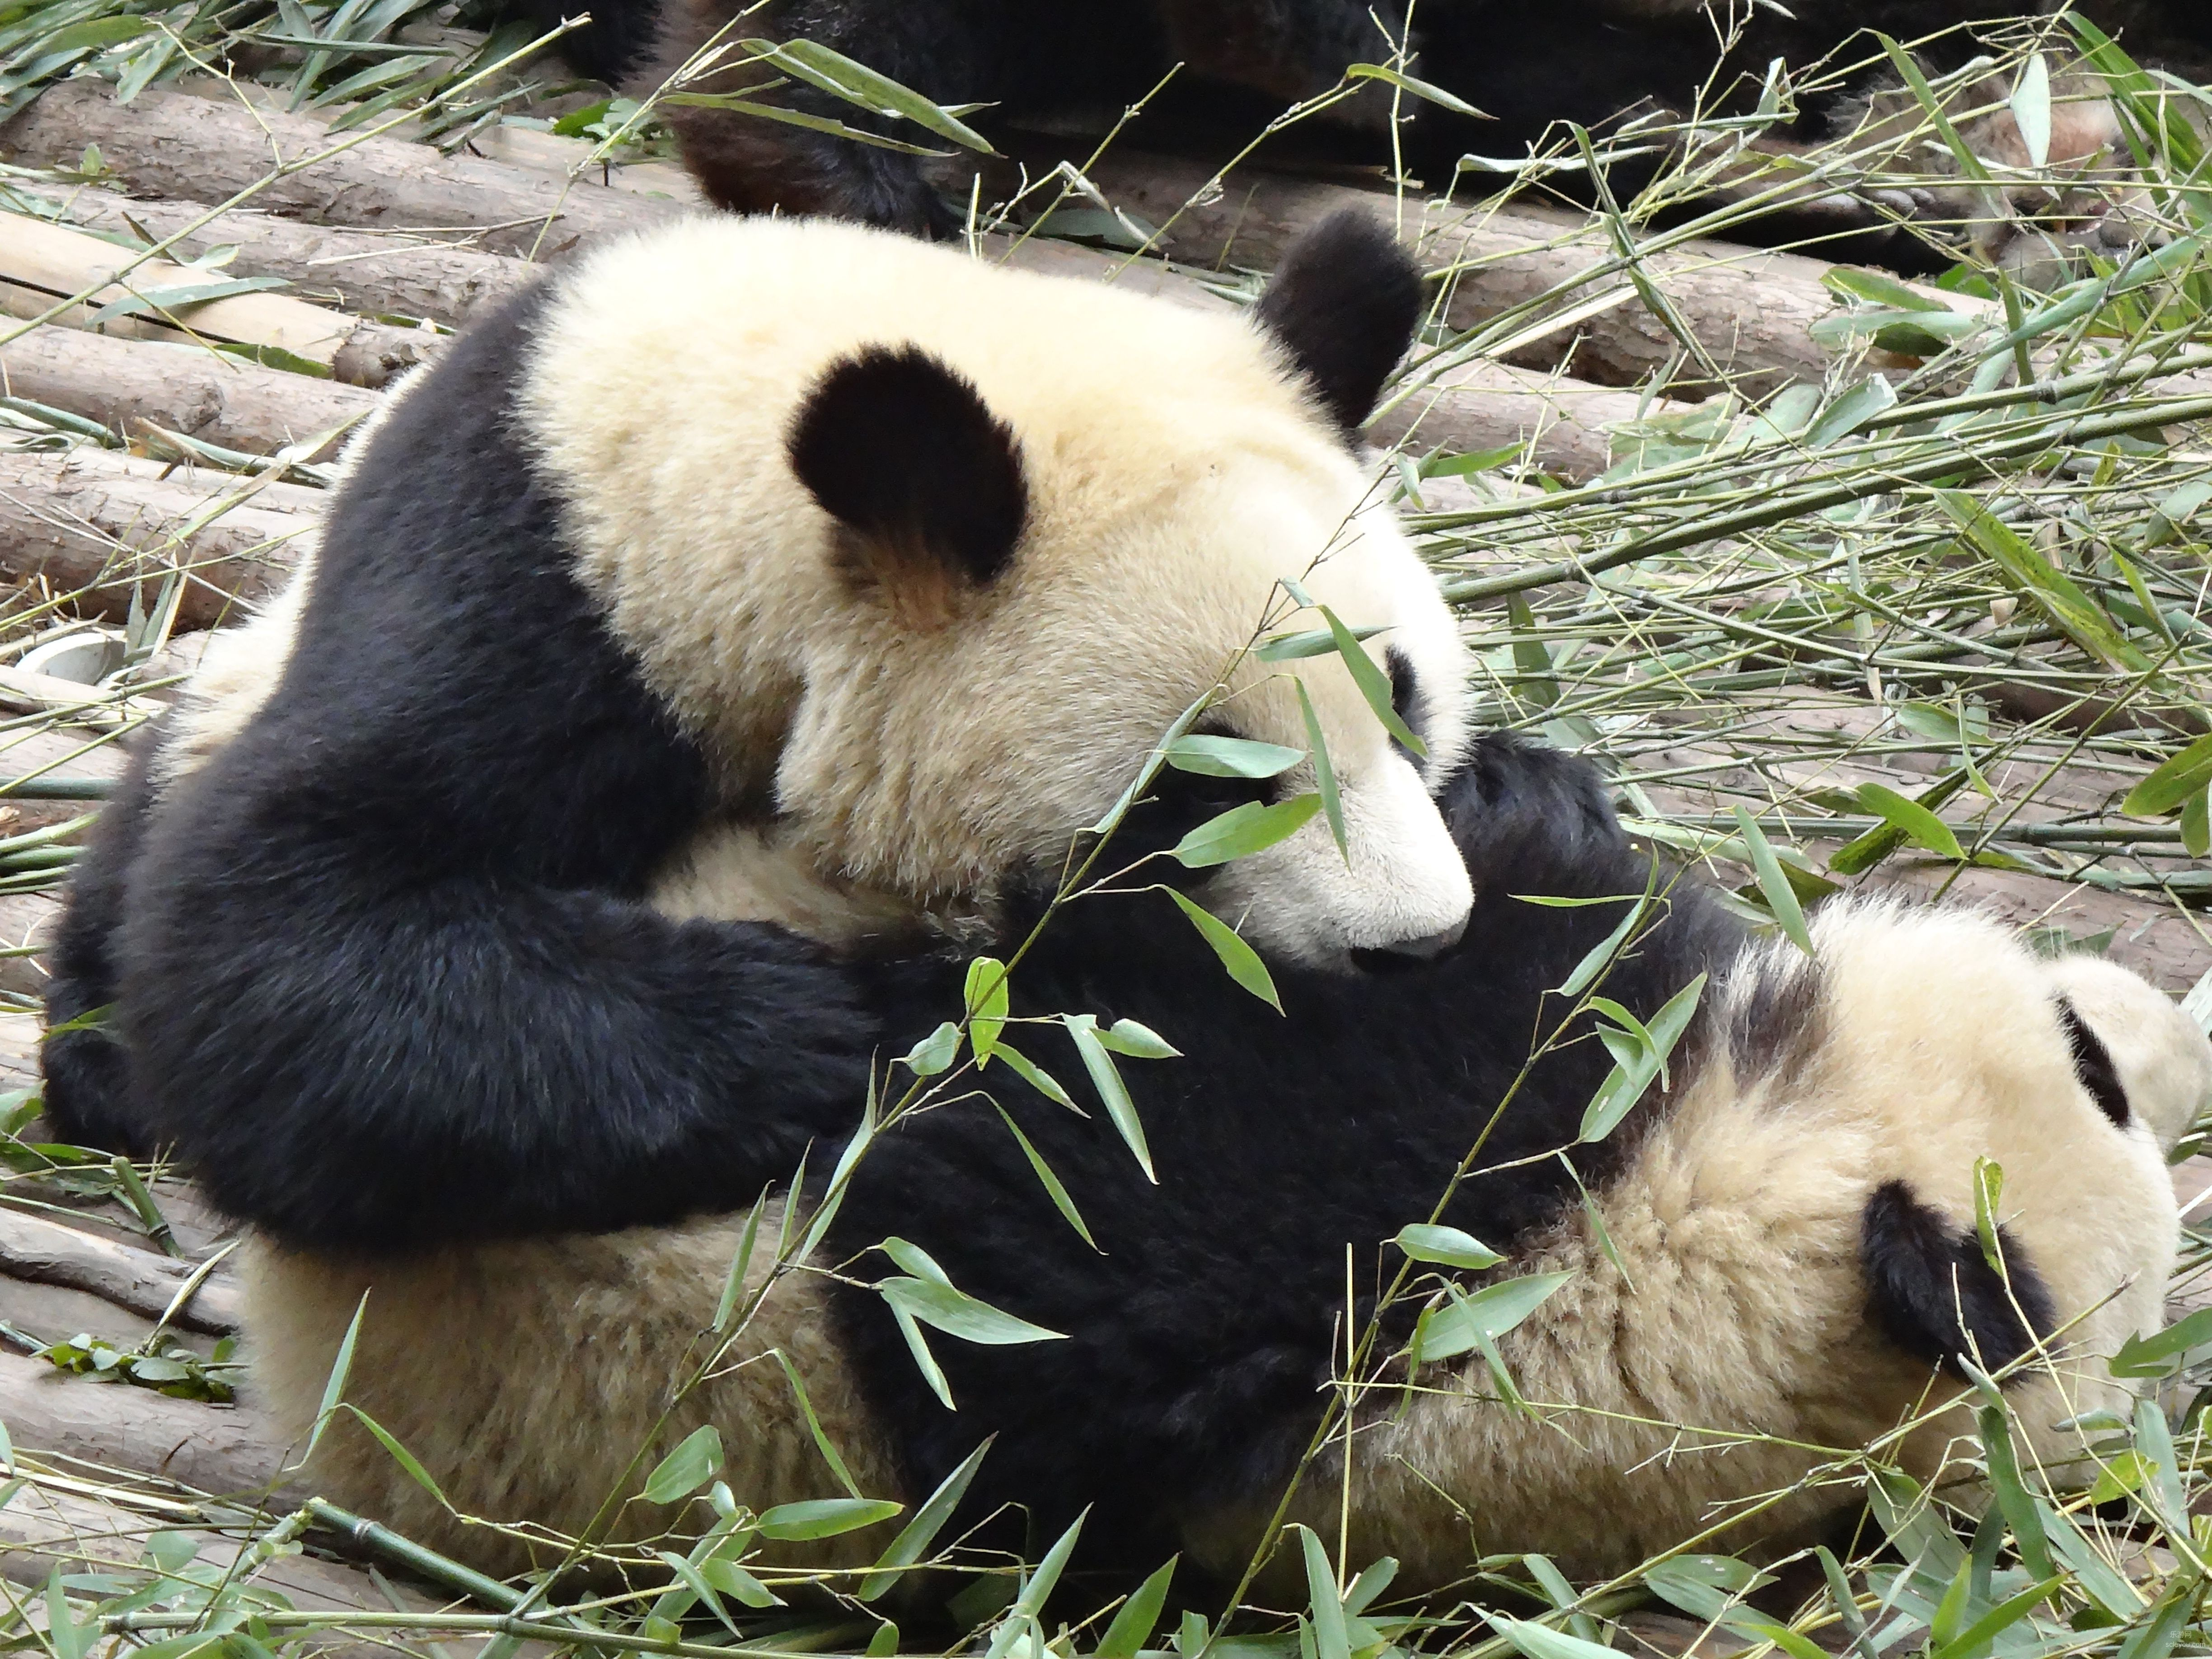panda: (185, 138, 1545, 1187), (458, 802, 2161, 1617)
